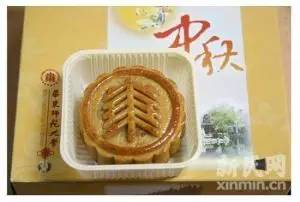MoonCake: (77, 64, 185, 162)
